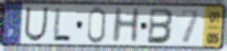0: (86, 6, 107, 46)
7: (180, 8, 201, 45)
B: (146, 7, 176, 45)
H: (110, 7, 142, 45)
L: (50, 7, 73, 43)
U: (22, 6, 50, 43)
